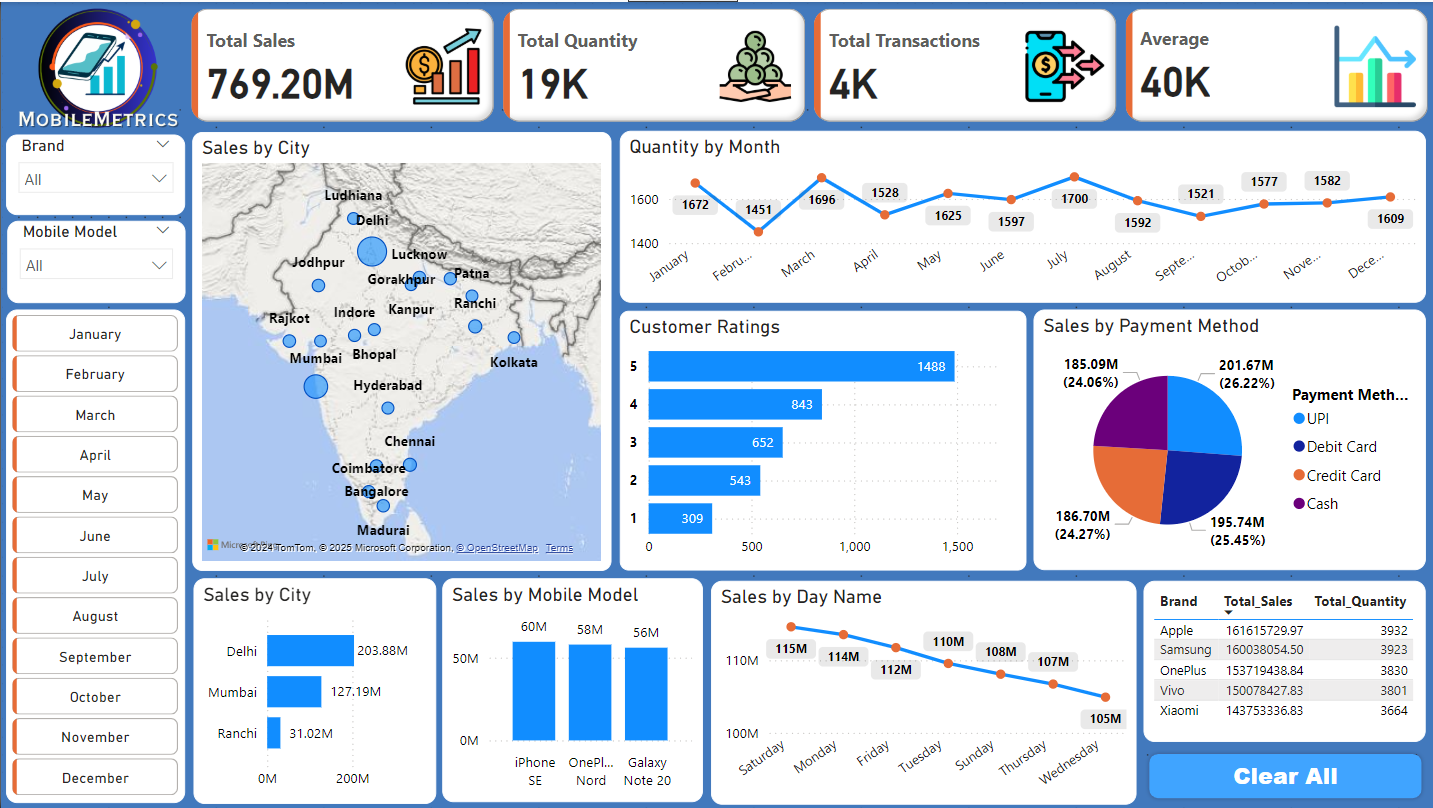

The page's visual inventory and layout, read from the dashboard file:
{"tool":"powerbi","page":{"name":"Page 1","canvas":[1280,720],"ordinal":0},"visuals":[{"type":"advancedSlicerVisual","fields":{"Values":["Sales_Data.Date.Variation.Date Hierarchy.Month"]},"box":[5,275,160,441],"z":0},{"type":"cardVisual","fields":{"Data":["Sales_Data.Total_Sales","Sales_Data.Total_Quantity","Sales_Data.Total_Transaction","Sales_Data.Average"]},"box":[165.3,1.3,1114.7,111.3],"z":1000},{"type":"map","title":"Sales by City","fields":{"Category":["Sales_Data.City"],"Size":["Sales_Data.Total_Sales"]},"box":[171.1,115.6,374.4,392.2],"z":2000},{"type":"lineChart","title":"Quantity by Month","fields":{"Category":["Sales_Data.Date.Variation.Date Hierarchy.Month","Sales_Data.Date.Variation.Date Hierarchy.Day"],"Y":["Sales_Data.Total_Quantity"]},"box":[552.4,115.3,720,153.5],"z":3000},{"type":"columnChart","title":"Sales by Mobile Model","fields":{"Y":["Sales_Data.Total_Sales"],"Category":["Sales_Data.Mobile Model"]},"box":[394.2,515.1,232.6,200],"z":4000},{"type":"pieChart","title":"Sales by Payment Method","fields":{"Y":["Sales_Data.Total_Sales"],"Category":["Sales_Data.Payment Method"]},"box":[922.5,275,350,232.5],"z":5000},{"type":"barChart","title":"Customer Ratings","fields":{"Y":["CountNonNull(Sales_Data.Customer Ratings)"],"Category":["Sales_Data.Customer Ratings"]},"box":[552.4,275.3,362.9,232.4],"z":6000},{"type":"tableEx","fields":{"Values":["Sales_Data.Brand","Sales_Data.Total_Sales","Sales_Data.Total_Quantity"]},"box":[1020.8,516.7,251.7,144.2],"z":7000},{"type":"slicer","fields":{"Values":["Sales_Data.Brand"]},"box":[4.4,117.8,160,72.2],"z":8000},{"type":"areaChart","title":"Sales by Day Name","fields":{"Category":["Sales_Data.Day Name"],"Y":["Sales_Data.Total_Sales"]},"box":[633.7,516.3,380.2,200],"z":9000},{"type":"slicer","fields":{"Values":["Sales_Data.Mobile Model"]},"box":[5.6,195.6,158.9,73.3],"z":10000},{"type":"image","box":[0,0,173.8,117.5],"z":11000},{"type":"actionButton","box":[1021.2,667.5,251.2,47.5],"z":12000},{"type":"clusteredBarChart","title":"Sales by City","fields":{"Category":["Sales_Data.City"],"Y":["Sales_Data.Total_Sales"]},"box":[171.4,514.3,217.1,201.4],"z":13000}]}

Visuals, with their boxes in screenshot pixels (x1, y1, x2, y2), scaled from the page's 1280x720 canvas onto the 1433x808 screenshot:
advancedSlicerVisual - Sales_Data.Date.Variation.Date Hierarchy.Month: (x1=6, y1=309, x2=185, y2=804)
cardVisual - Sales_Data.Total_Sales x Sales_Data.Total_Quantity: (x1=185, y1=1, x2=1432, y2=126)
"Sales by City" map: (x1=192, y1=130, x2=611, y2=570)
"Quantity by Month" lineChart: (x1=618, y1=129, x2=1424, y2=302)
"Sales by Mobile Model" columnChart: (x1=441, y1=578, x2=702, y2=803)
"Sales by Payment Method" pieChart: (x1=1033, y1=309, x2=1425, y2=570)
"Customer Ratings" barChart: (x1=618, y1=309, x2=1025, y2=570)
tableEx - Sales_Data.Brand x Sales_Data.Total_Sales: (x1=1143, y1=580, x2=1425, y2=742)
slicer - Sales_Data.Brand: (x1=5, y1=132, x2=184, y2=213)
"Sales by Day Name" areaChart: (x1=709, y1=579, x2=1135, y2=804)
slicer - Sales_Data.Mobile Model: (x1=6, y1=220, x2=184, y2=302)
image: (x1=0, y1=0, x2=195, y2=132)
actionButton: (x1=1143, y1=749, x2=1424, y2=802)
"Sales by City" clusteredBarChart: (x1=192, y1=577, x2=435, y2=803)
